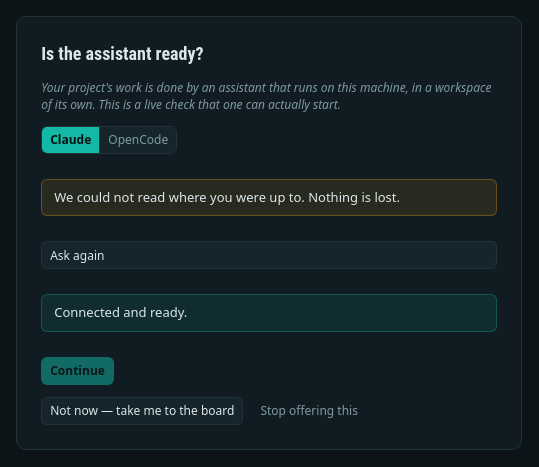
Test: the backend step › says so and offers to ask again when reading where you were fails
The image size is (539, 467).
expect the text "We could not read where you were up to. Nothing is lost." is shown: met, box [41,179,497,216]
expect the button "Continue" is disabled: met, box [41,357,114,385]
Click the button "Ask again".
click(77, 255)  # box [41,241,497,269]
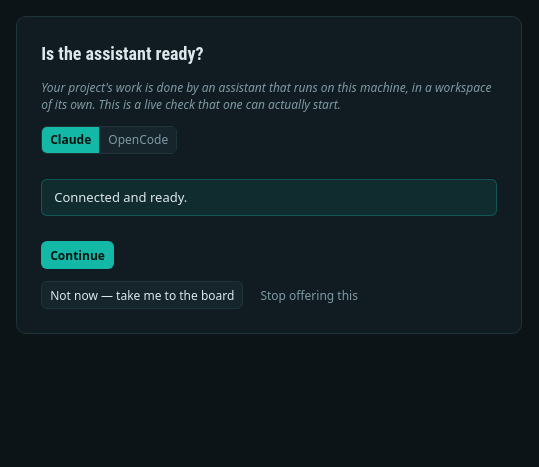
expect the button "Continue" is enabled: met, box [41,241,114,269]
expect the text "could not read where you were" is gone: met
